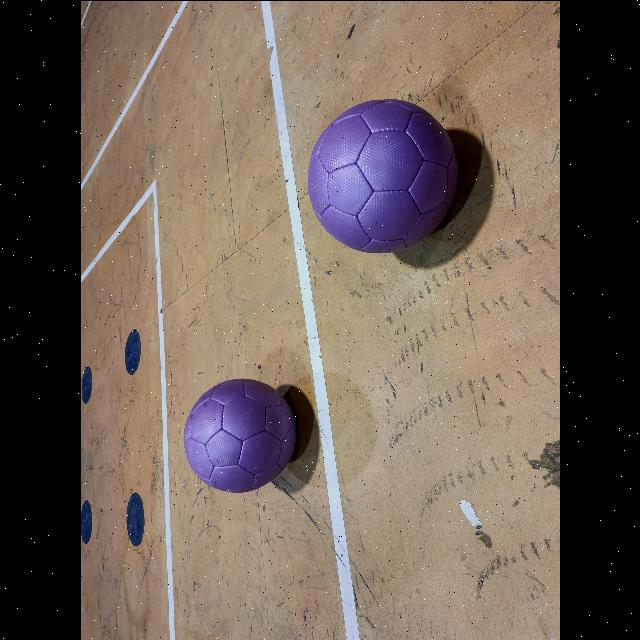P: (308, 98, 457, 252), (183, 378, 295, 492)
